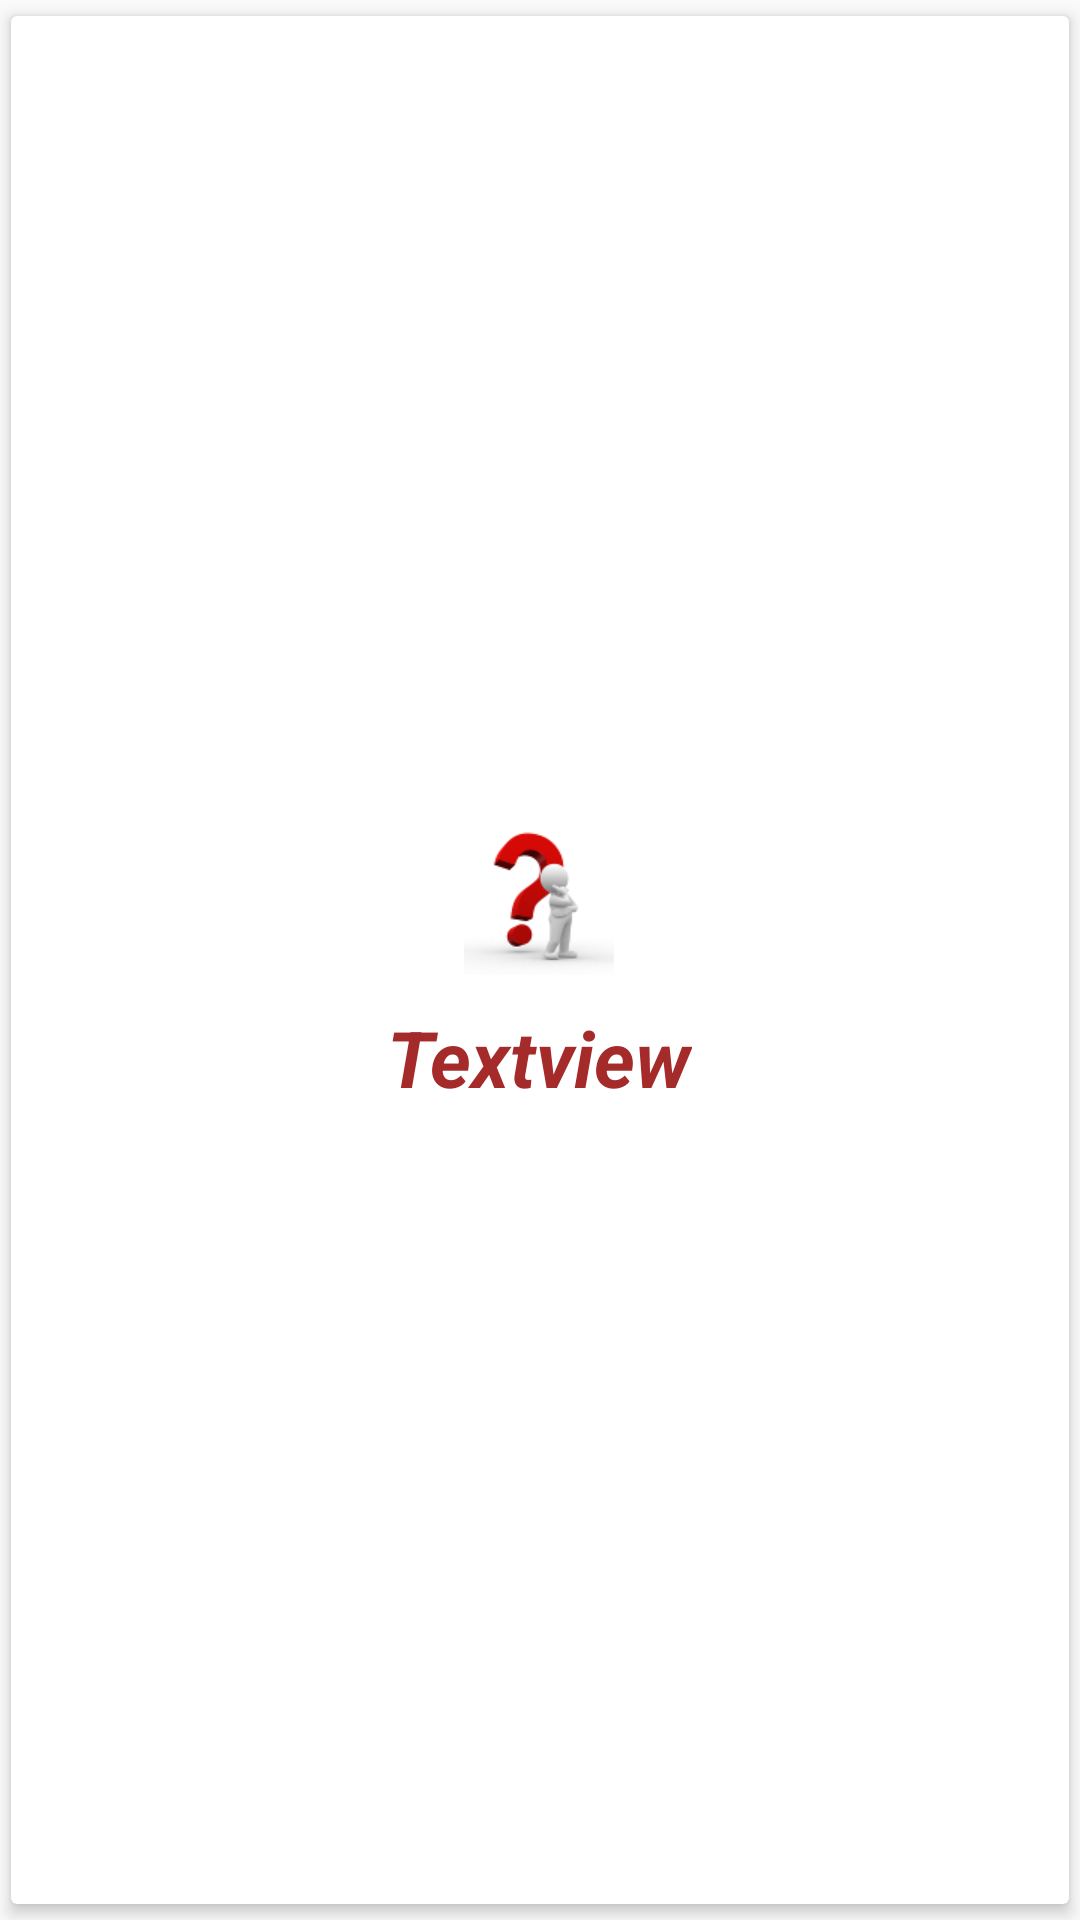

Screen size 1080w x 1920h. Icon name, then its center in pixels as point (x, y):
aptitude: point (542, 896)
